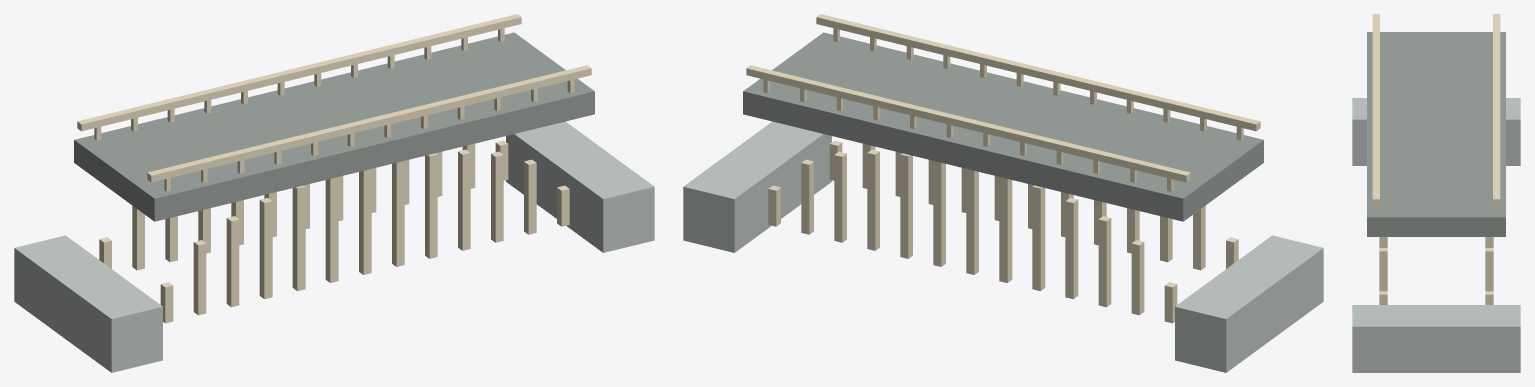
3 views of the same model, side by side, from view 1: azimuth 30°, elevation 25°; view 2: azimuth 150°, elevation 25°; view 3: azimuth 270°, elevation 25° (orthographic). The views are drawn at different scales.
Parts seen in each view (by area): view 1: bridge-deck, abutment (×2), square-beam (×13), railing-top (×2); view 2: bridge-deck, abutment (×2), square-beam (×13), railing-top (×2); view 3: bridge-deck, abutment (×2), railing-top (×2), square-beam (×2).
Part boxes in pixels (<box>): bridge-deck: <box>74,32,594,221</box>; abutment (×2): <box>14,121,654,372</box>; square-beam (×13): <box>132,149,536,315</box>; railing-top (×2): <box>77,14,591,182</box>; bridge-deck: <box>743,32,1263,221</box>; abutment (×2): <box>683,121,1323,372</box>; square-beam (×13): <box>801,149,1205,315</box>; railing-top (×2): <box>746,14,1260,182</box>; bridge-deck: <box>1367,32,1505,236</box>; abutment (×2): <box>1352,98,1520,372</box>; railing-top (×2): <box>1372,14,1500,205</box>; square-beam (×2): <box>1379,248,1493,291</box>.
Bounding box in the file's own units: 14.8 × 4.59 × 4.6.
